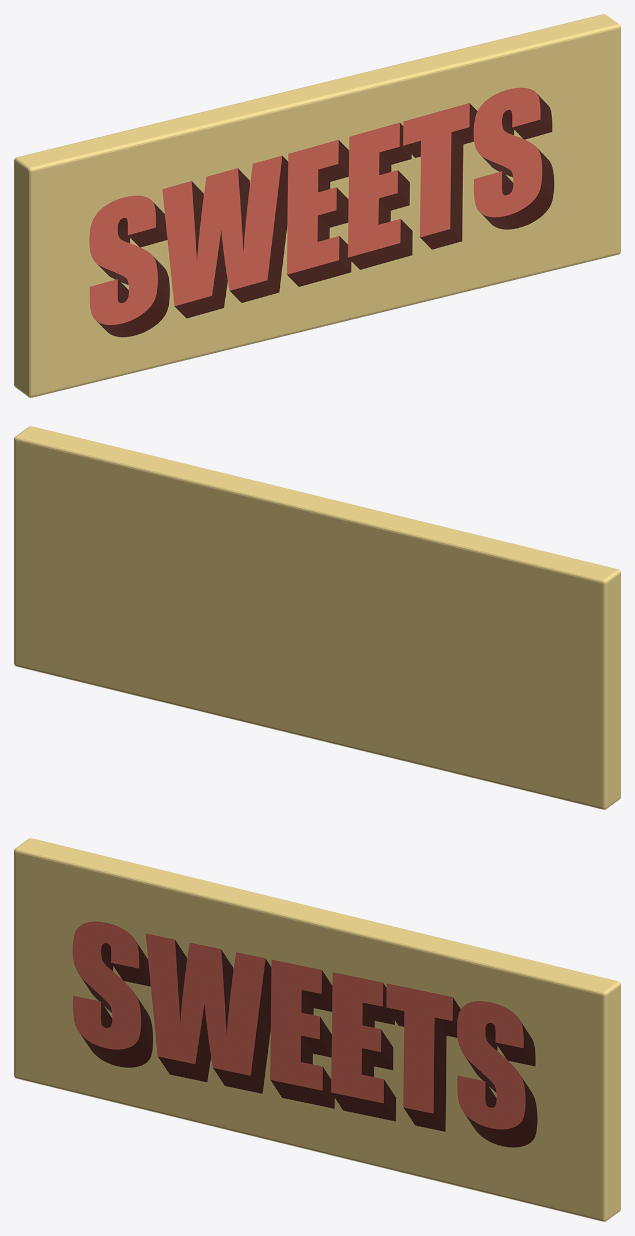
Rendered from sweets.fbx.
3 views of the same model, one above another, from view 1: azimuth 30°, elevation 25°; view 2: azimuth 150°, elevation 25°; view 3: azimuth 330°, elevation 25° (orthographic).
Parts seen in each view (by area): view 1: sweets; view 2: sweets; view 3: sweets.
Part boxes in pixels (x1,y1,x2,y2): sweets: [14, 14, 620, 397]; sweets: [14, 426, 620, 809]; sweets: [14, 838, 620, 1221].
Bounding box in the file's own units: 102 × 38 × 5.
1 material, 1 textured.
